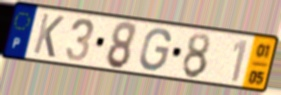1: (230, 38, 250, 83)
3: (64, 17, 95, 63)
8: (179, 31, 215, 80), (105, 20, 137, 71)
G: (138, 27, 173, 73)
K: (31, 11, 66, 60)
